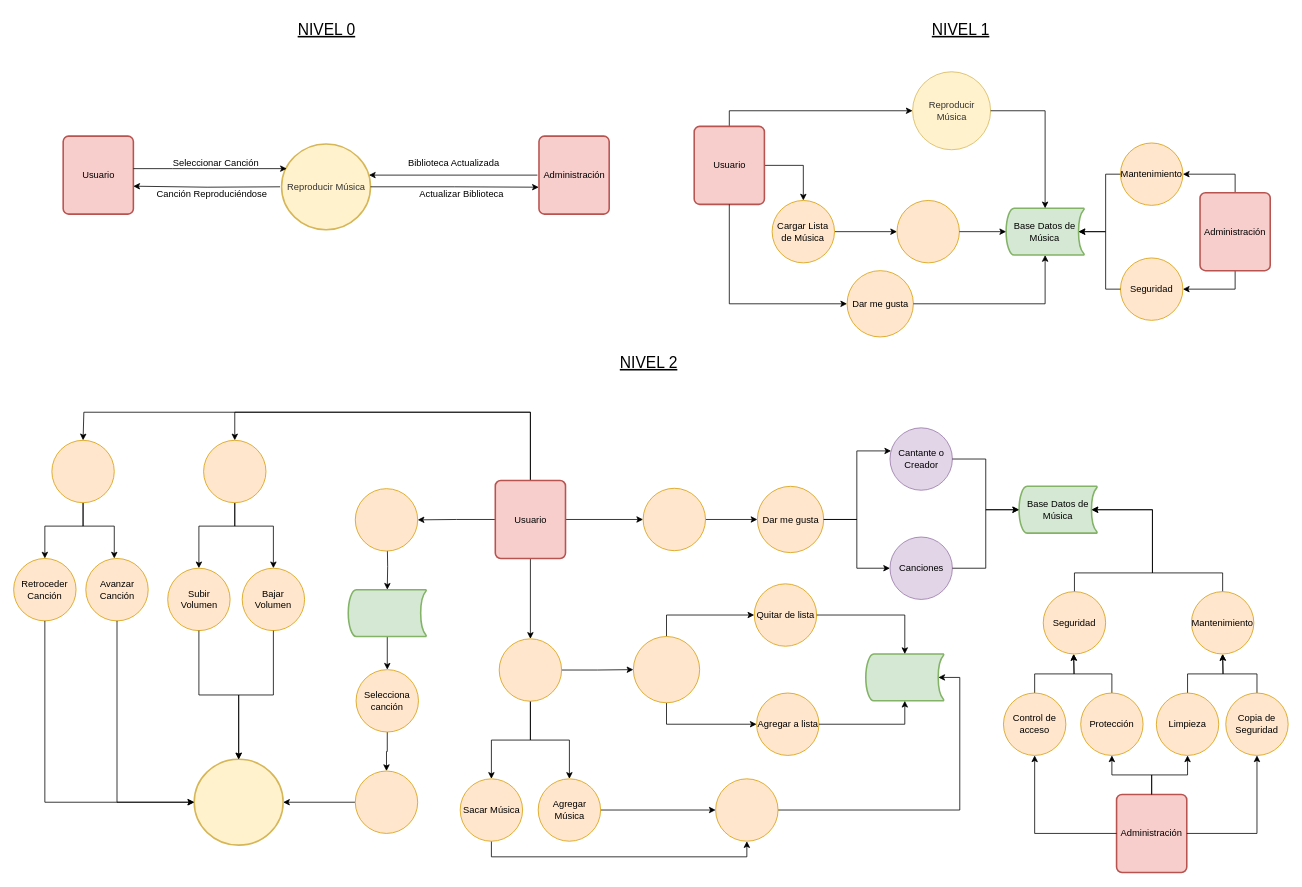
The diagram is 1302 pixels wide and 887 high, and some of its shapes have lost their labels. The shapes that lost their labels are listed below. From the top down, each one's centre as x and y in pixels, then its label:
[927,231]: Seleccionar Música
[82,471]: Control de Reproducción
[234,471]: Controles de volumen
[386,519]: Buscar Canciones
[674,519]: Interactuar
[387,613]: Almacenamiento de música
[530,669]: Gestiona lista
[666,669]: Administrar lista
[904,677]: Almacenamiento de listas
[238,802]: 1. Reproducir Música
[386,801]: Pausar/ Reproducir
[746,809]: Actualización de Lista
